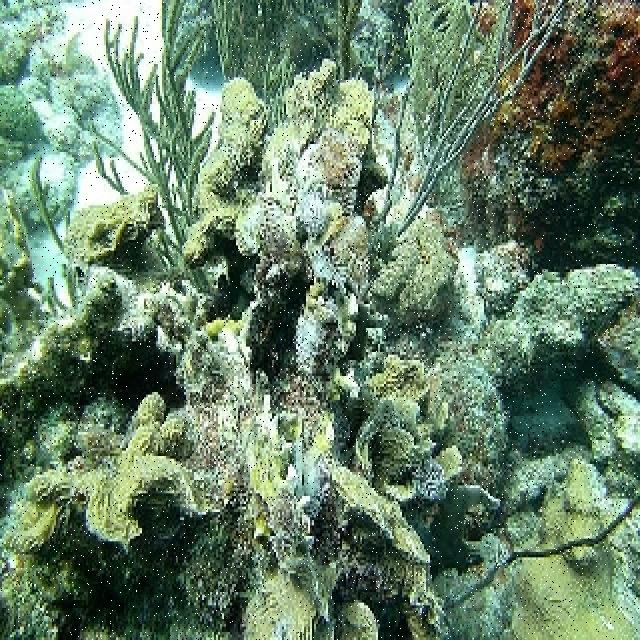aquatic plants: (404, 0, 568, 227), (83, 0, 214, 241), (27, 151, 65, 250), (94, 142, 128, 195)
reefs: (0, 59, 638, 636)
